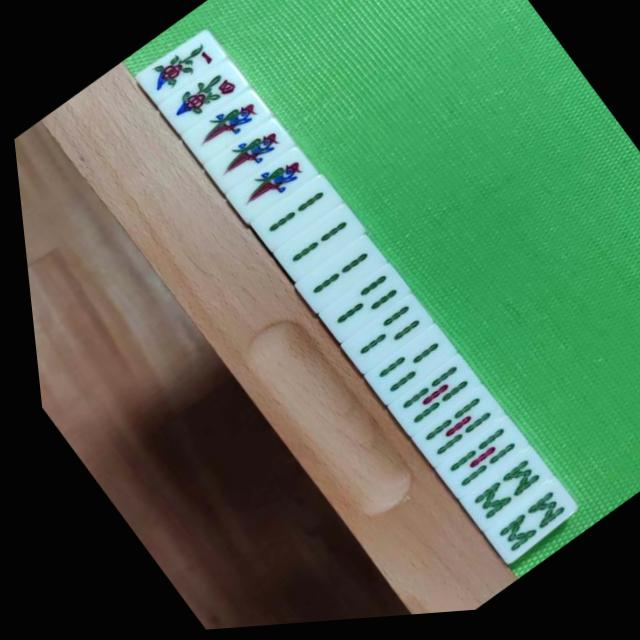bs1: (132, 35, 221, 107)
bs4: (153, 64, 243, 137)
sb1: (220, 152, 311, 225), (198, 122, 289, 195), (176, 93, 267, 166)
sb2: (244, 180, 336, 254), (289, 242, 379, 314), (269, 211, 355, 279)
sb3: (355, 334, 446, 408), (312, 272, 402, 345), (334, 303, 423, 376)
sb5: (376, 362, 472, 441), (399, 395, 494, 473), (425, 427, 515, 503)
sb8: (470, 487, 567, 568), (448, 459, 539, 533)
